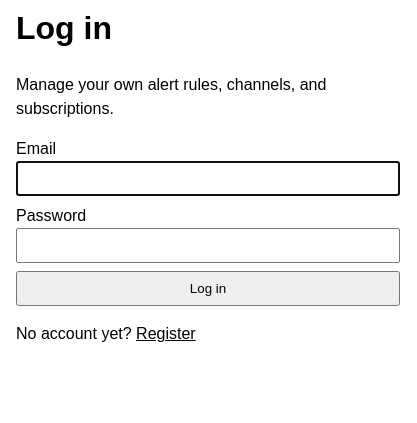
Test: LoginPage › shows an error message when login fails
The width and height of the screenshot is (417, 423).
Type "user@example.com" into the field labelled "Email" at (208, 179), box [16, 161, 400, 196]
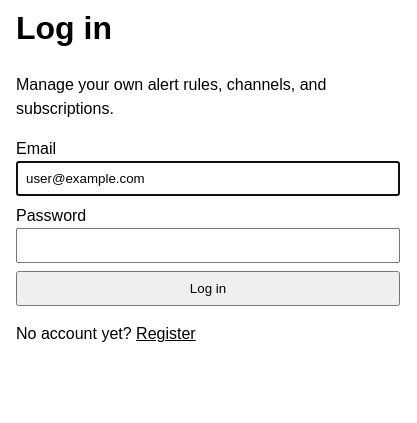
Type "wrong-password" into the password field labelled "Password" at (208, 246), box [16, 228, 400, 263]
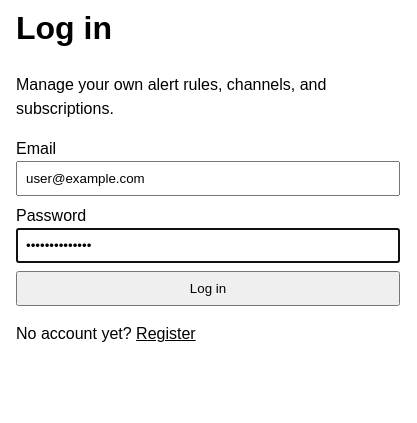
Click the button "Log in" at (208, 289), box [16, 271, 400, 306]
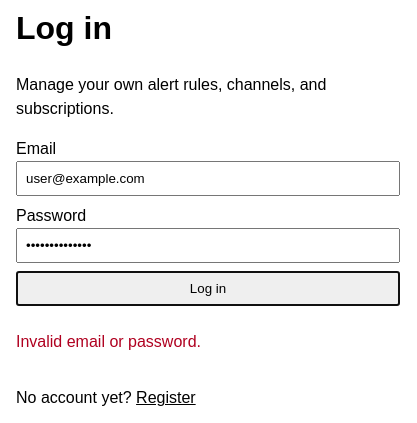
Expected: the text "Invalid email or password." is shown, [16, 333, 201, 350]
